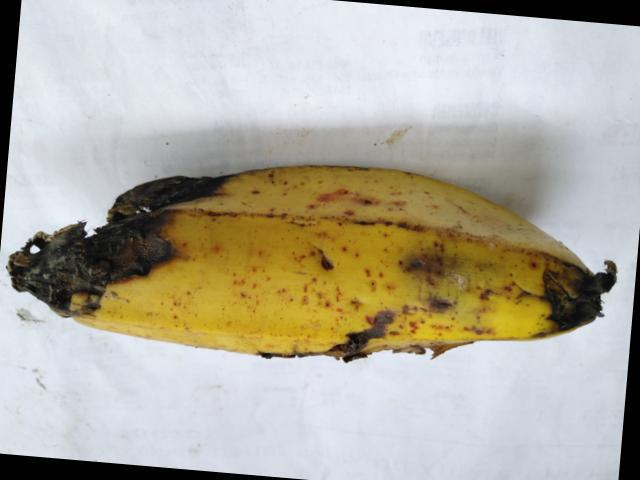rotten: (243, 225, 614, 397), (0, 138, 279, 338)
